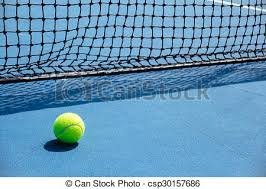tennis_ball: (54, 112, 84, 144)
